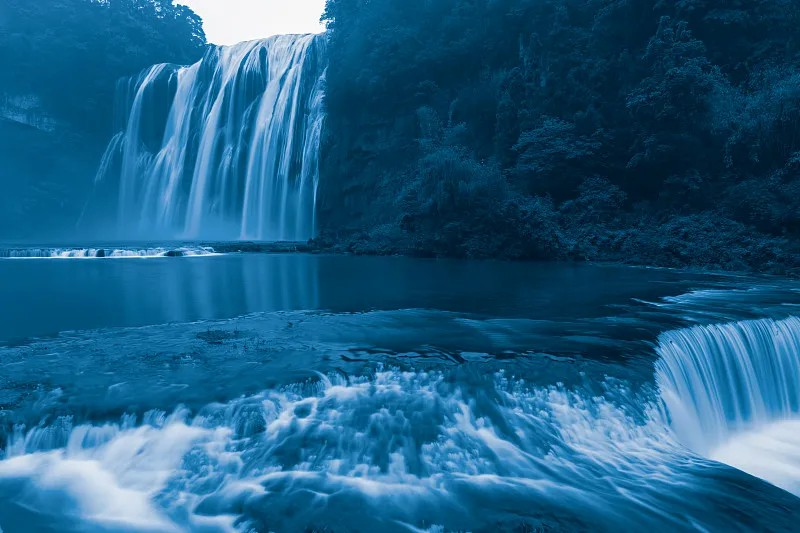Huangguoshu: (98, 33, 323, 239)
